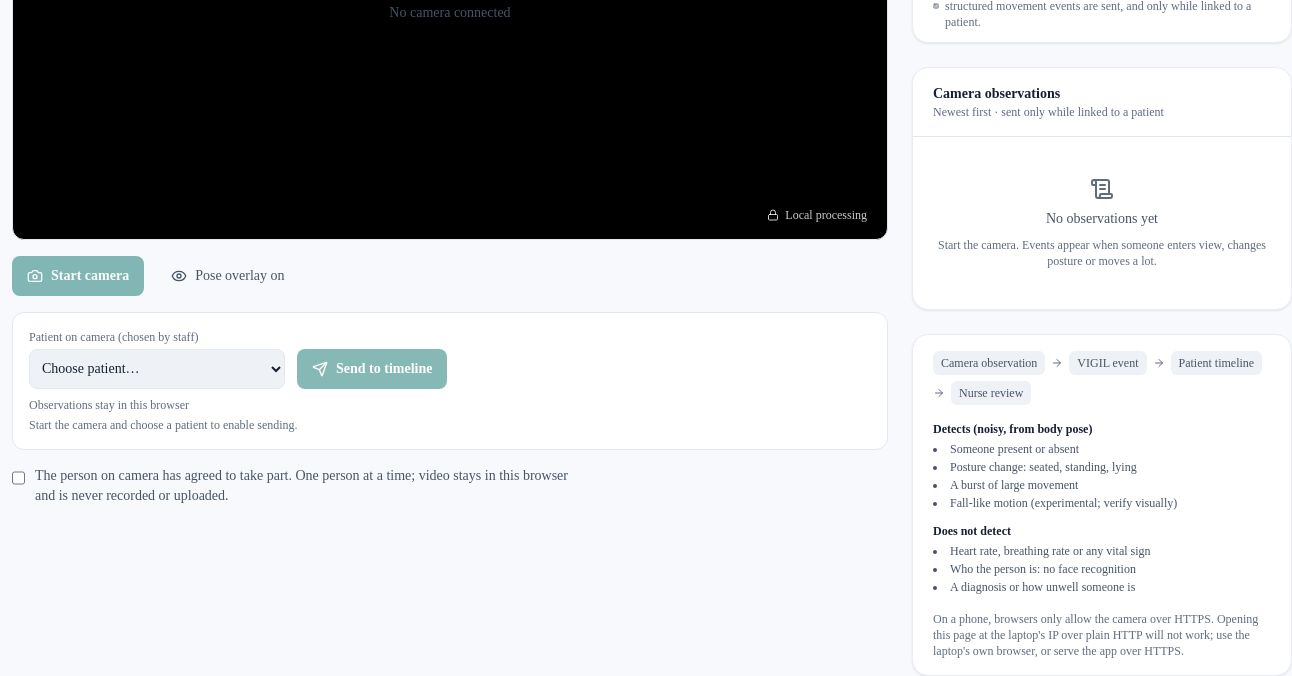
Test: VIGIL Vision camera lifecycle › explains a denied permission and never shows a live state
(page scrolled)
Click the checkbox. click: (18, 478)
box: [12,470,25,486]
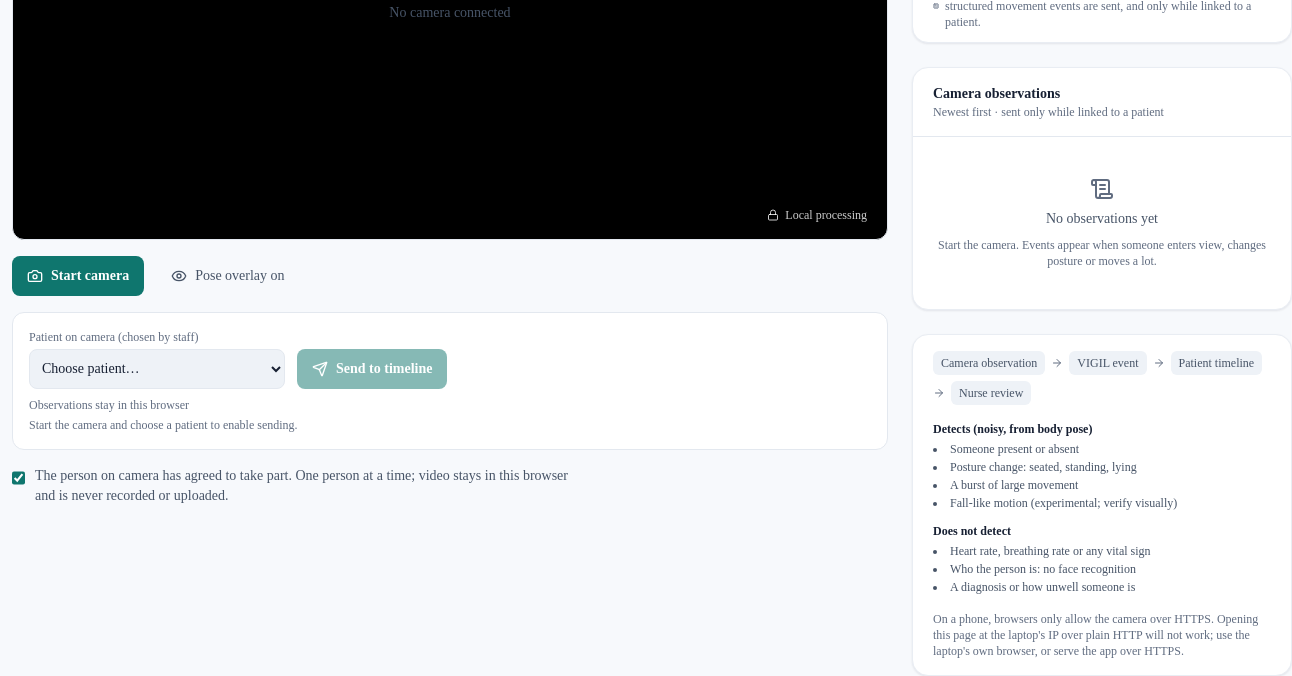
Click the button "Start camera". click: (78, 276)
box: [12,256,144,296]
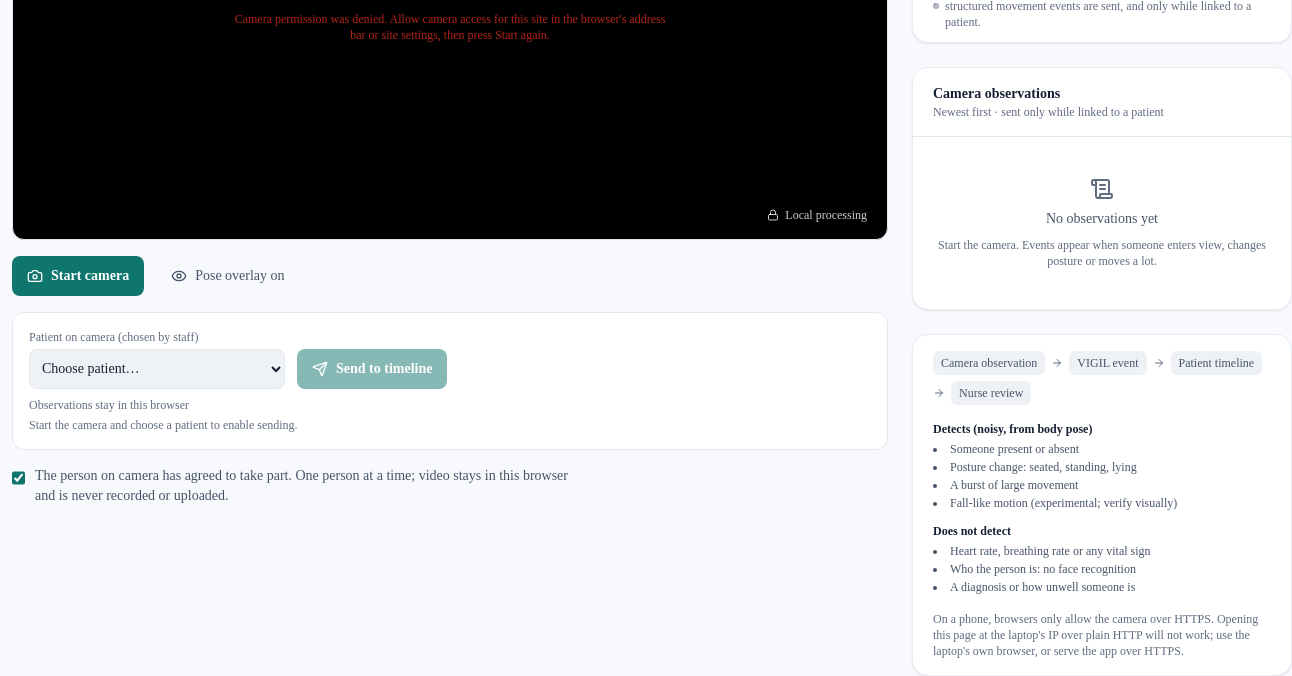
Result: the 1st message shows "Allow camera access" at [235,12,665,42]
